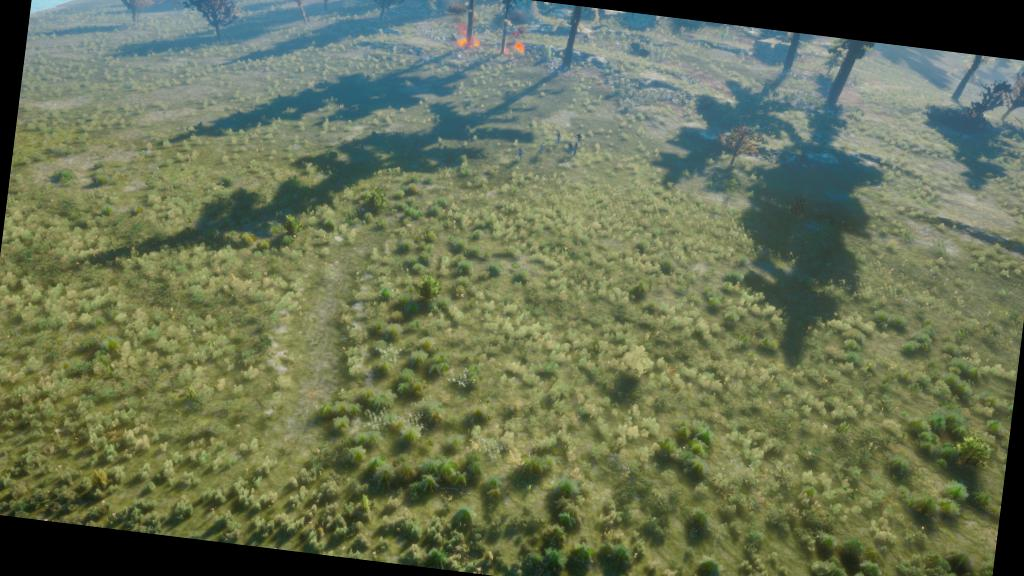Fire: (451, 22, 488, 51), (500, 38, 529, 59)
human: (536, 139, 550, 157), (514, 146, 528, 162), (552, 129, 564, 147), (572, 140, 580, 158), (566, 139, 574, 156), (574, 132, 584, 144)
